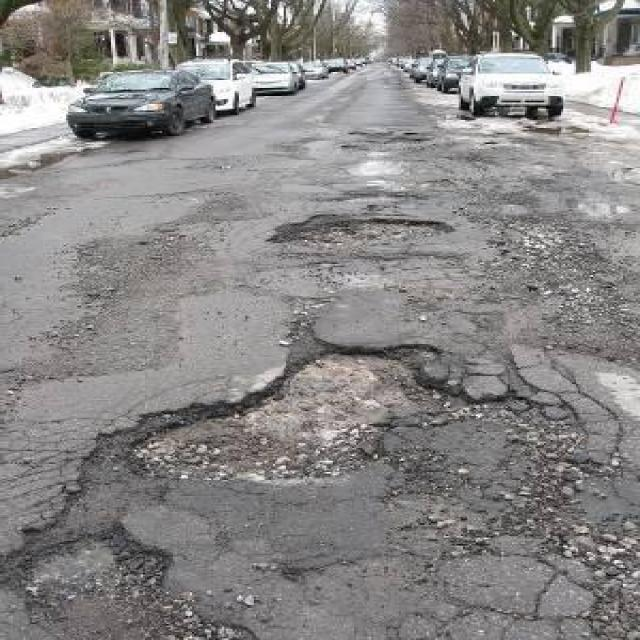pothole: (115, 333, 478, 480), (15, 526, 177, 608), (273, 214, 459, 253)
